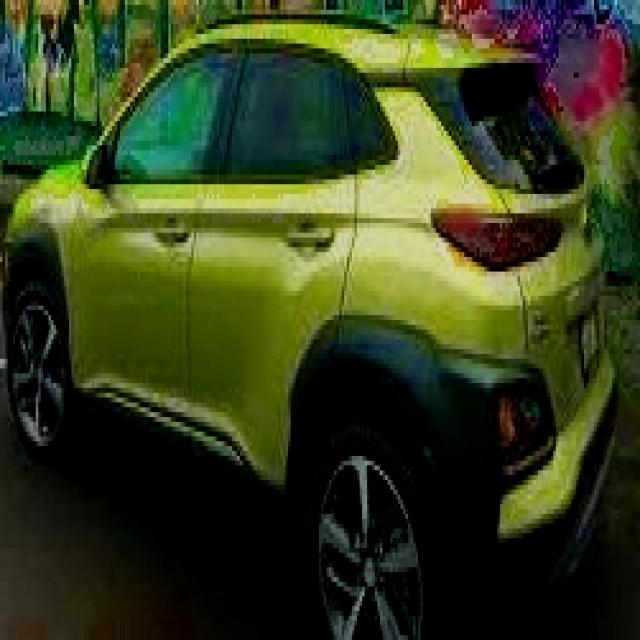green: (0, 17, 615, 623)
